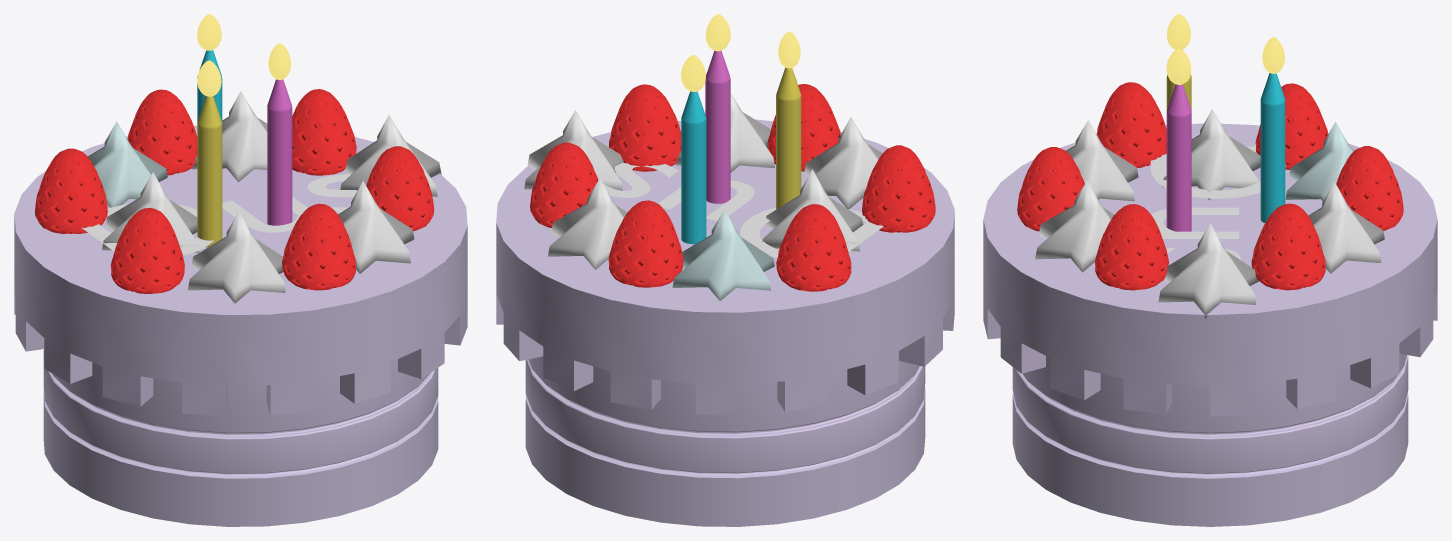
The model's file is caked.glb.
The picture shows the model from 3 angles, left to right: view 1: azimuth 30°, elevation 25°; view 2: azimuth 150°, elevation 25°; view 3: azimuth 270°, elevation 25°; orthographic projection.
Parts seen in each view (by area): view 1: cake, 柱体.005, 立方体.003, 立方体.004, 立方体.005, 立方体.001, 立方体, 立方体.002, 柱体.004, 柱体.007, 柱体.008, 柱体 (+8 smaller); view 2: cake, 立方体.005, 立方体, 立方体.004, 柱体, 立方体.002, 立方体.001, 柱体.002, 柱体.001, 柱体.007, 柱体.005, 文本 (+8 smaller); view 3: cake, 柱体.003, 立方体.001, 立方体.002, 立方体.004, 立方体, 柱体.004, 立方体.003, 柱体.006, 柱体.002, 柱体.007, 柱体.001 (+7 smaller).
Part boxes in pixels (box(x1,y1,x2,y2)): cake: box(14, 125, 467, 526); 柱体.005: box(188, 211, 285, 303); 立方体.003: box(282, 203, 356, 290); 立方体.004: box(110, 208, 184, 293); 立方体.005: box(35, 148, 107, 233); 立方体.001: box(292, 89, 356, 175); 立方体: box(127, 89, 197, 175); 立方体.002: box(366, 146, 434, 231); 柱体.004: box(338, 181, 414, 273); 柱体.007: box(267, 79, 292, 225); 柱体.008: box(197, 96, 222, 247); 柱体: box(88, 121, 167, 207); cake: box(496, 119, 954, 526); 立方体.005: box(776, 204, 851, 291); 立方体: box(608, 200, 683, 287); 立方体.004: box(862, 145, 935, 232); 柱体: box(672, 209, 774, 300); 立方体.002: box(609, 84, 681, 171); 立方体.001: box(530, 142, 598, 227); 柱体.002: box(548, 178, 627, 269); 柱体.001: box(681, 91, 706, 244); 柱体.007: box(705, 50, 730, 203); 柱体.005: box(804, 117, 882, 209); 文本: box(604, 162, 883, 258); cake: box(983, 123, 1437, 526); 柱体.003: box(1158, 223, 1259, 318); 立方体.001: box(1251, 203, 1325, 290); 立方体.002: box(1095, 204, 1168, 290); 立方体.004: box(1096, 82, 1166, 167); 立方体: box(1336, 146, 1403, 230); 柱体.004: box(1035, 180, 1114, 272); 立方体.003: box(1017, 147, 1084, 231); 柱体.006: box(1162, 109, 1260, 200); 柱体.002: box(1308, 181, 1384, 273); 柱体.007: box(1166, 84, 1191, 231); 柱体.001: box(1260, 73, 1285, 222).
Size of the model in its own units: 2.31 by 2.27 by 2.3.
